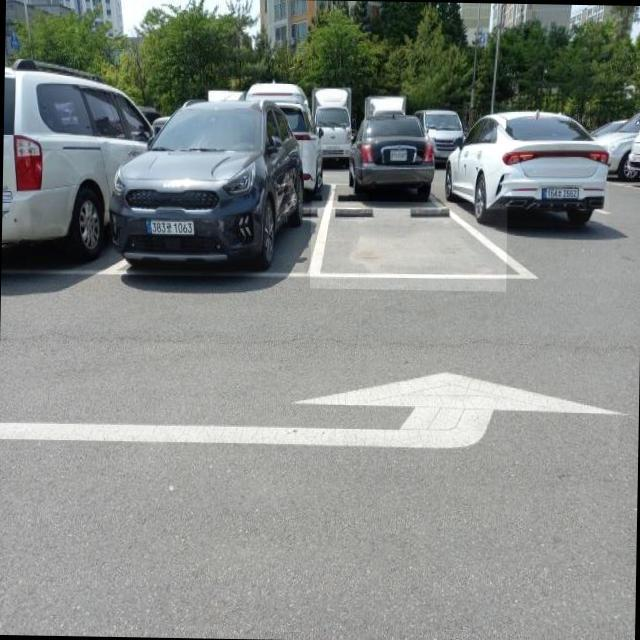empty: (310, 200, 507, 291)
occupied: (108, 94, 307, 278), (448, 108, 610, 227), (348, 114, 436, 201)
